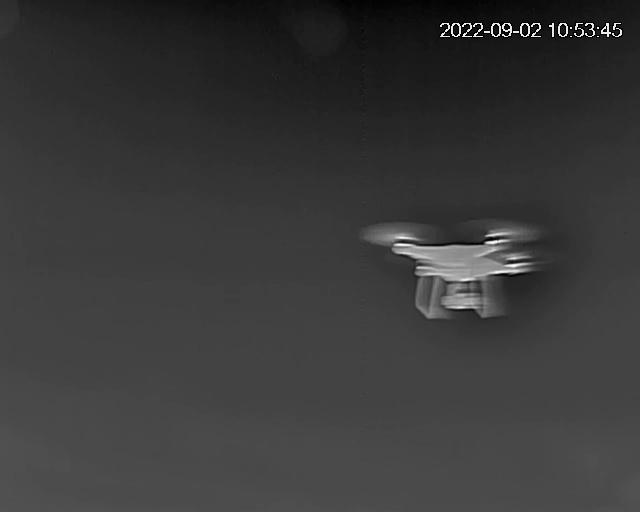DJI-Phantom: (359, 219, 551, 322)
